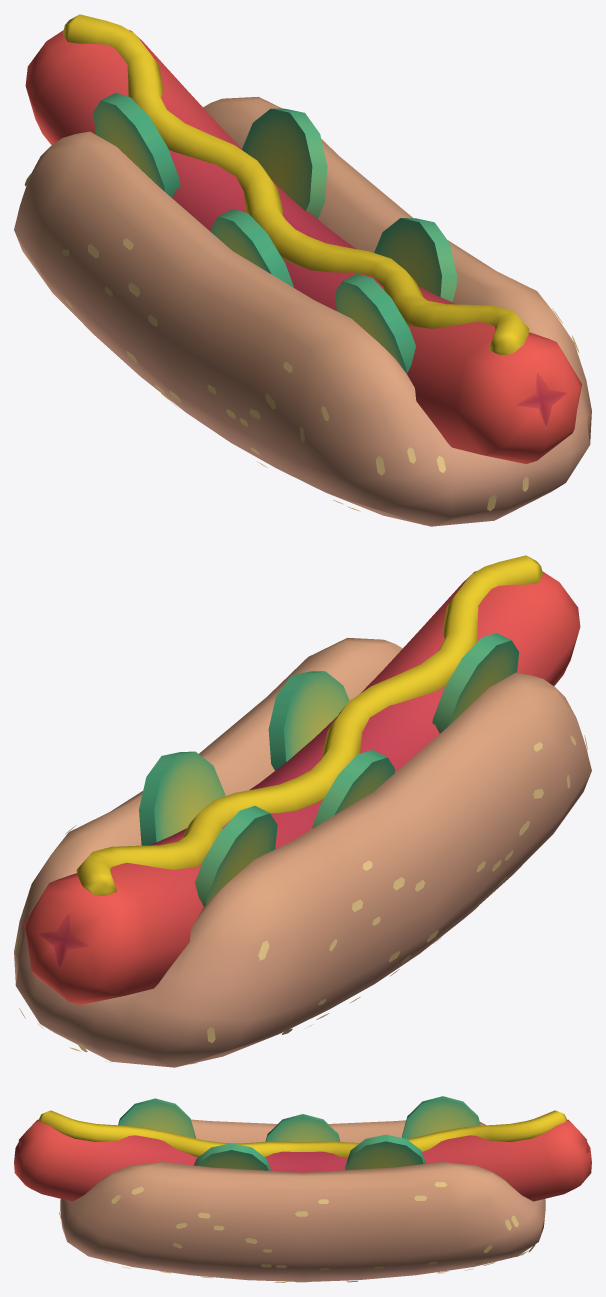
The model's file is Hot_Dog.fbx.
The picture shows the model from 3 angles, top to bottom: view 1: azimuth 30°, elevation 25°; view 2: azimuth 150°, elevation 25°; view 3: azimuth 270°, elevation 25°; orthographic projection. The views are drawn at different scales.
Parts seen in each view (by area): view 1: Hot_Dog; view 2: Hot_Dog; view 3: Hot_Dog.
Part boxes in pixels (box(x1,y1,x2,y2)): Hot_Dog: box(14, 14, 591, 526); Hot_Dog: box(14, 555, 591, 1067); Hot_Dog: box(14, 1096, 591, 1282).
Size of the model in its own units: 0.1206 by 0.1108 by 0.3733.
